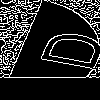D: (24, 25, 100, 73)
